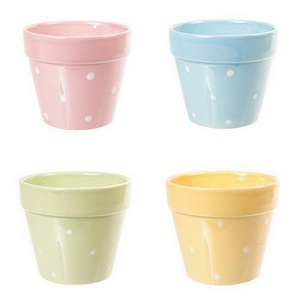flowerpot: (167, 168, 280, 285), (16, 170, 128, 286), (21, 18, 132, 133), (169, 18, 279, 130)
